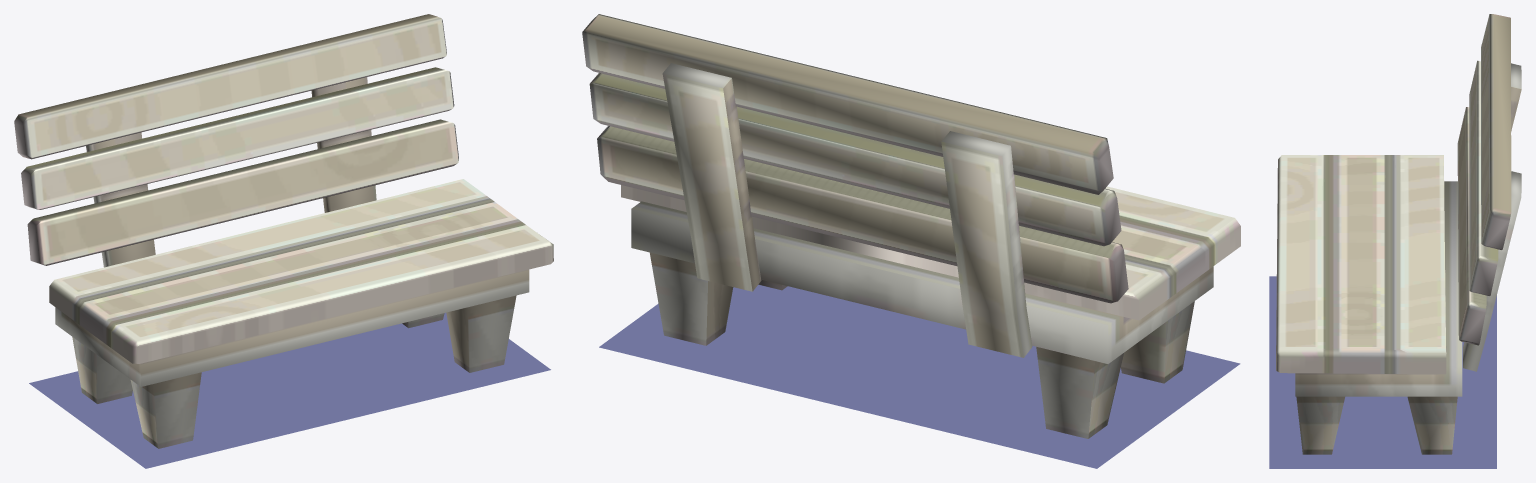
The model's file is fobj_bench_plain.fbx.
3 renders of one model, left to right at view 1: azimuth 30°, elevation 25°; view 2: azimuth 150°, elevation 25°; view 3: azimuth 270°, elevation 25°, orthographic. The views are drawn at different scales.
Parts seen in each view (by area): view 1: fobj_bench_plain2, sdw_square, polySurface1; view 2: fobj_bench_plain2, sdw_square, polySurface1; view 3: fobj_bench_plain2, sdw_square, polySurface1.
Boxes of the visible parts, x1,y1,x2,y2 form: fobj_bench_plain2: (14, 14, 553, 386); sdw_square: (29, 312, 550, 468); polySurface1: (72, 77, 516, 448); fobj_bench_plain2: (582, 14, 1240, 363); sdw_square: (599, 284, 1240, 468); polySurface1: (650, 63, 1194, 438); fobj_bench_plain2: (1276, 14, 1511, 396); sdw_square: (1269, 276, 1496, 468); polySurface1: (1296, 63, 1521, 454).
Bounding box in the file's own units: 0.1783 × 0.1084 × 0.095.
